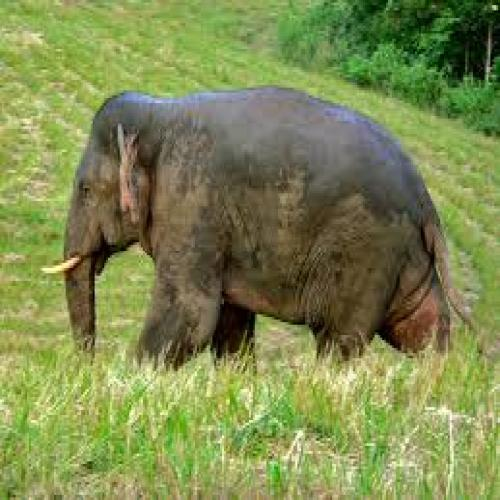asian_elephant-endangered: (41, 92, 487, 360)
